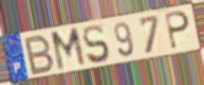7: (138, 13, 162, 56)
9: (113, 21, 135, 59)
B: (24, 33, 56, 77)
M: (48, 25, 88, 73)
P: (164, 10, 191, 51)
S: (81, 24, 112, 66)
